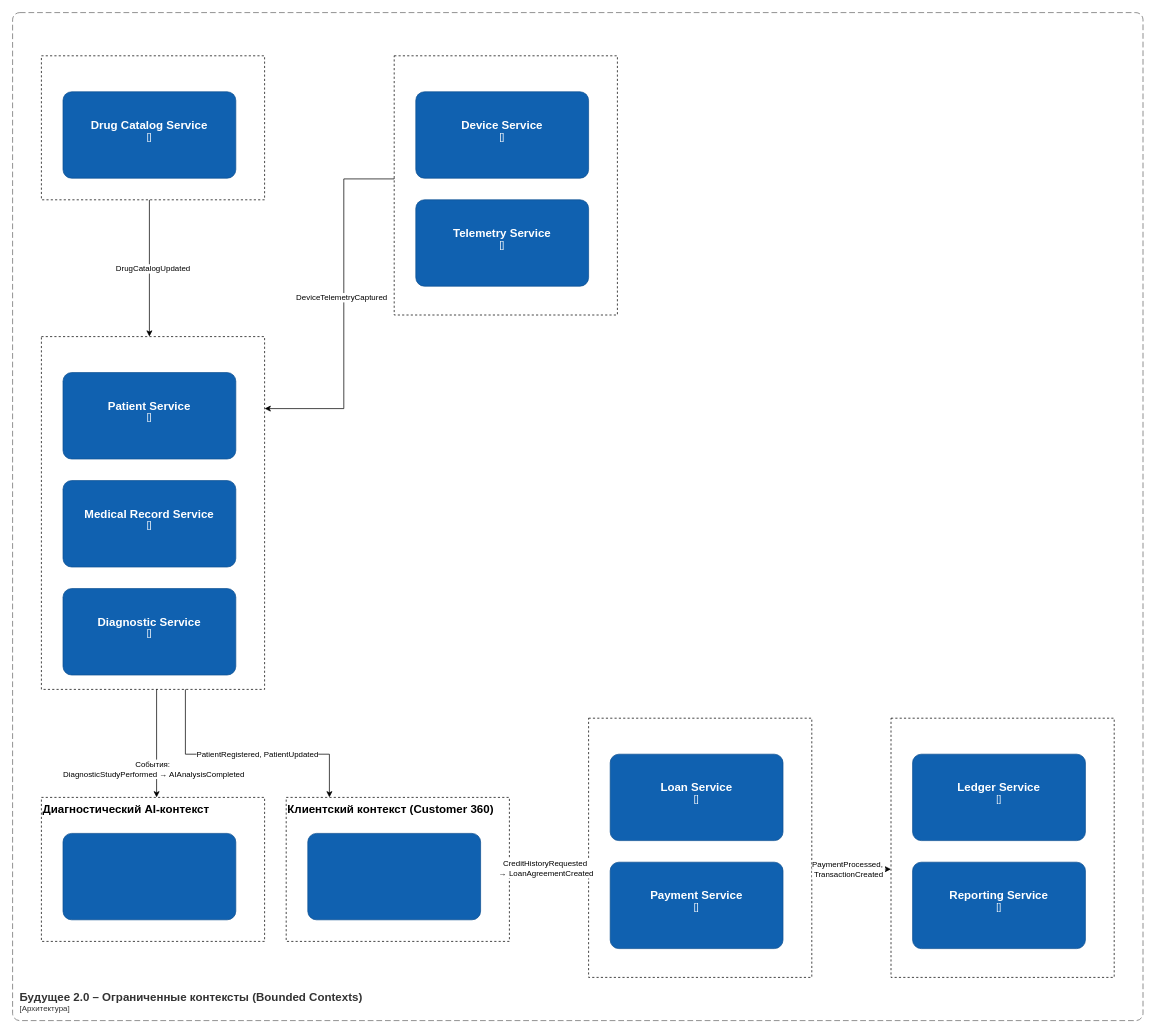
Some shapes in this 1156 by 1033 pixel diagram are drawn without their labels. The shapes that lost their labels are listed below. From the top down, each one's box as (x1, y1, x2, y2) in pixels, then its label:
(41, 55, 265, 200): Фармацевтический контекст (Pharma)
(393, 55, 617, 315): Контекст «Электроника» (Electro)
(41, 336, 265, 689): Медицинский контекст (Clinical)
(588, 717, 812, 977): Финтех-контекст (Fintech)
(890, 717, 1114, 977): Финансовый контекст (Finance/Reporting)
(62, 833, 236, 920): AI Analysis Service []
(307, 833, 481, 920): Customer 360 Service []
